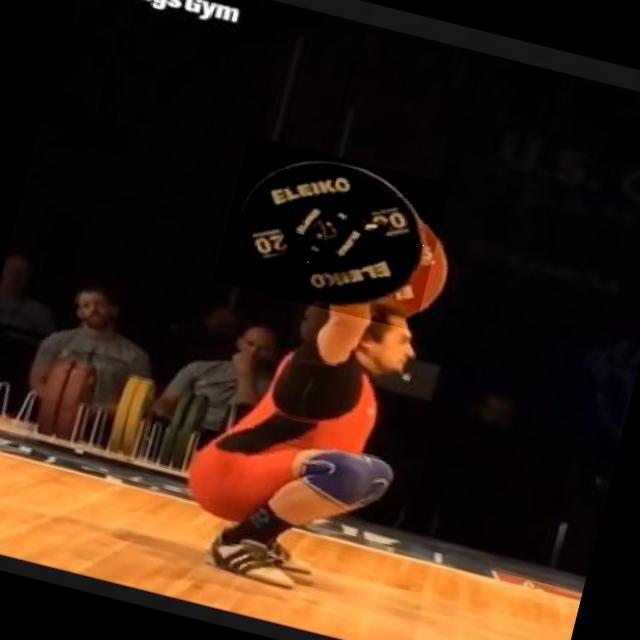barbell: (214, 135, 452, 332)
